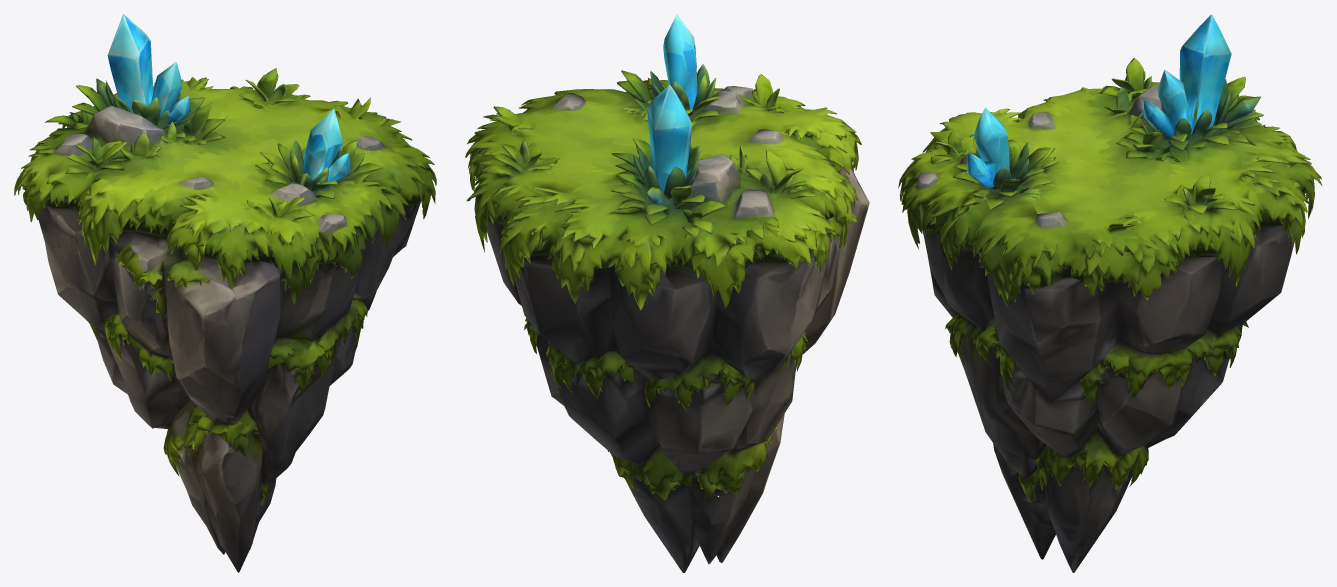
Rendered from 05-orbit-islet-crystal.glb.
The picture shows the model from 3 angles, left to right: view 1: azimuth 30°, elevation 25°; view 2: azimuth 150°, elevation 25°; view 3: azimuth 270°, elevation 25°; orthographic projection. The views are drawn at different scales.
Parts seen in each view (by area): view 1: tripo_node_4c52ec10-f2f2-4142-b8bb-bac6133ef3dc; view 2: tripo_node_4c52ec10-f2f2-4142-b8bb-bac6133ef3dc; view 3: tripo_node_4c52ec10-f2f2-4142-b8bb-bac6133ef3dc.
Boxes of the visible parts, left/top/right/bottom form: tripo_node_4c52ec10-f2f2-4142-b8bb-bac6133ef3dc: left=14, top=14, right=436, bottom=572; tripo_node_4c52ec10-f2f2-4142-b8bb-bac6133ef3dc: left=465, top=14, right=869, bottom=572; tripo_node_4c52ec10-f2f2-4142-b8bb-bac6133ef3dc: left=898, top=14, right=1322, bottom=572.
Size of the model in its own units: 0.7062 by 0.9788 by 0.7087.
1 material, 1 textured.
